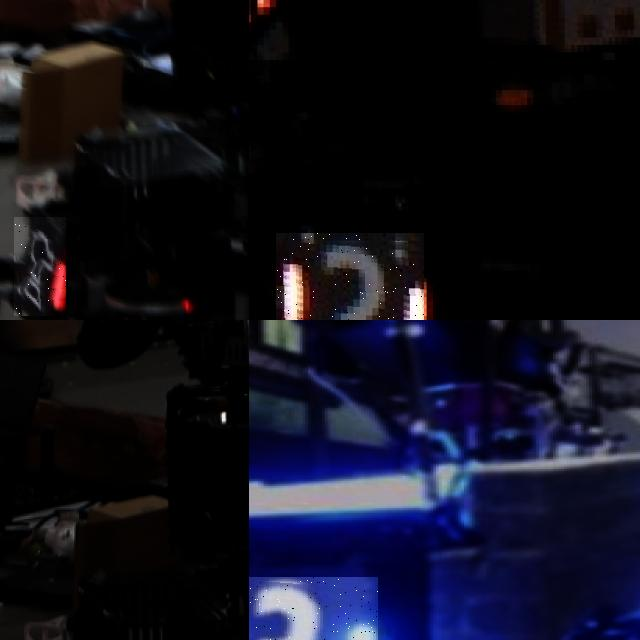B3: (249, 577, 377, 640)
R2: (276, 233, 423, 320)
Rs: (14, 217, 66, 316)
